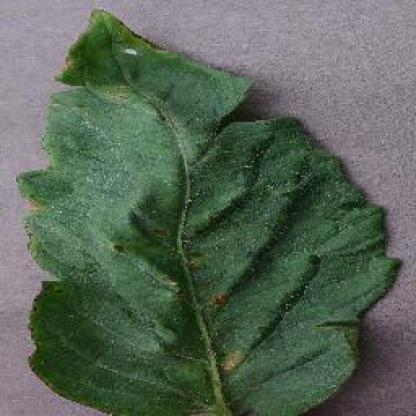bad leaf: (19, 0, 377, 415)
